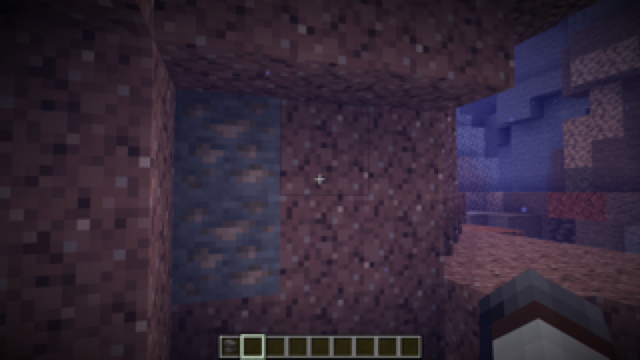iron: (171, 89, 279, 302)
